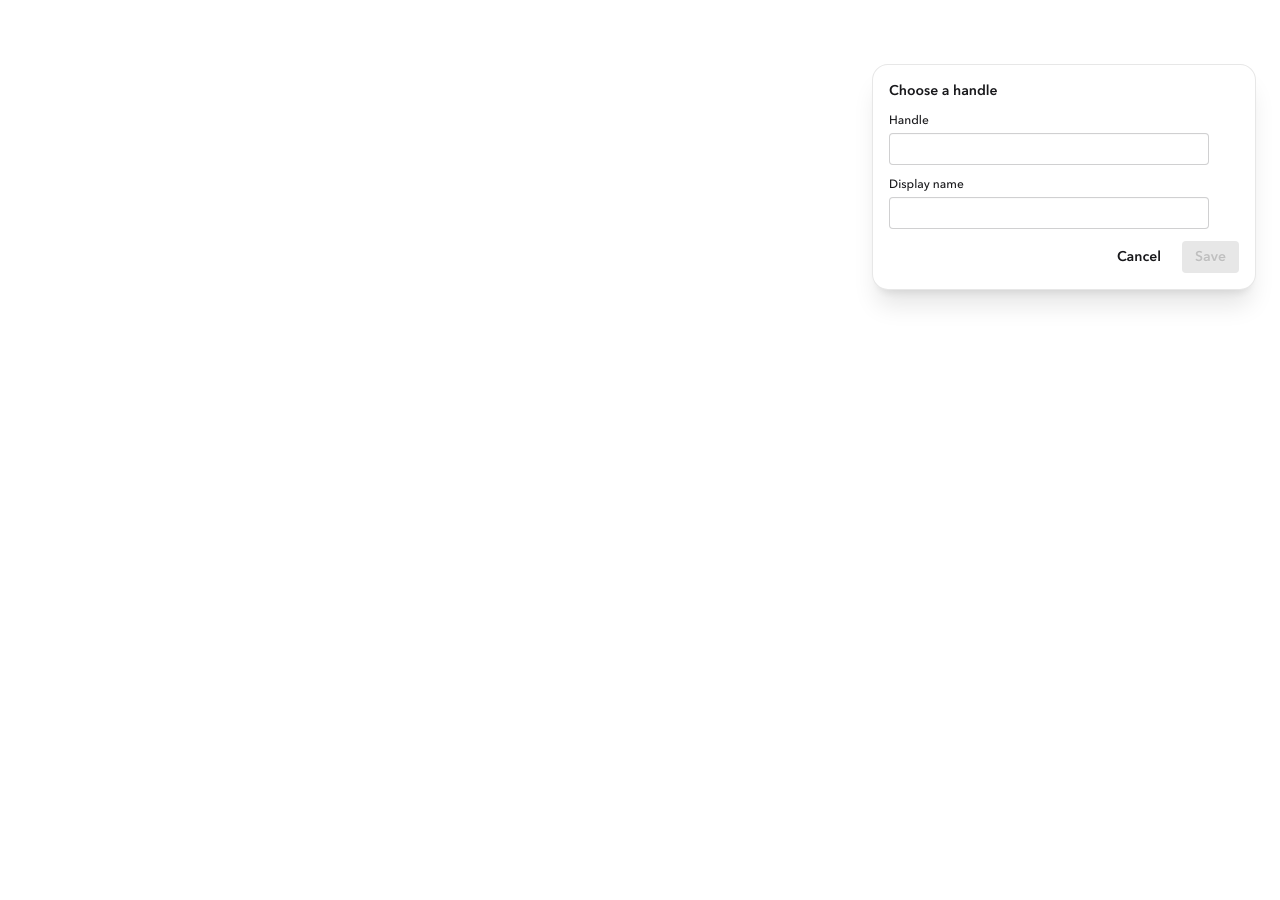
Test: HandleSheet › maps handle_change_too_soon to its copy
Type "reader_1" into the field labelled "Handle".
click(1049, 149); type("reader_1")  # box [889,133,1209,165]
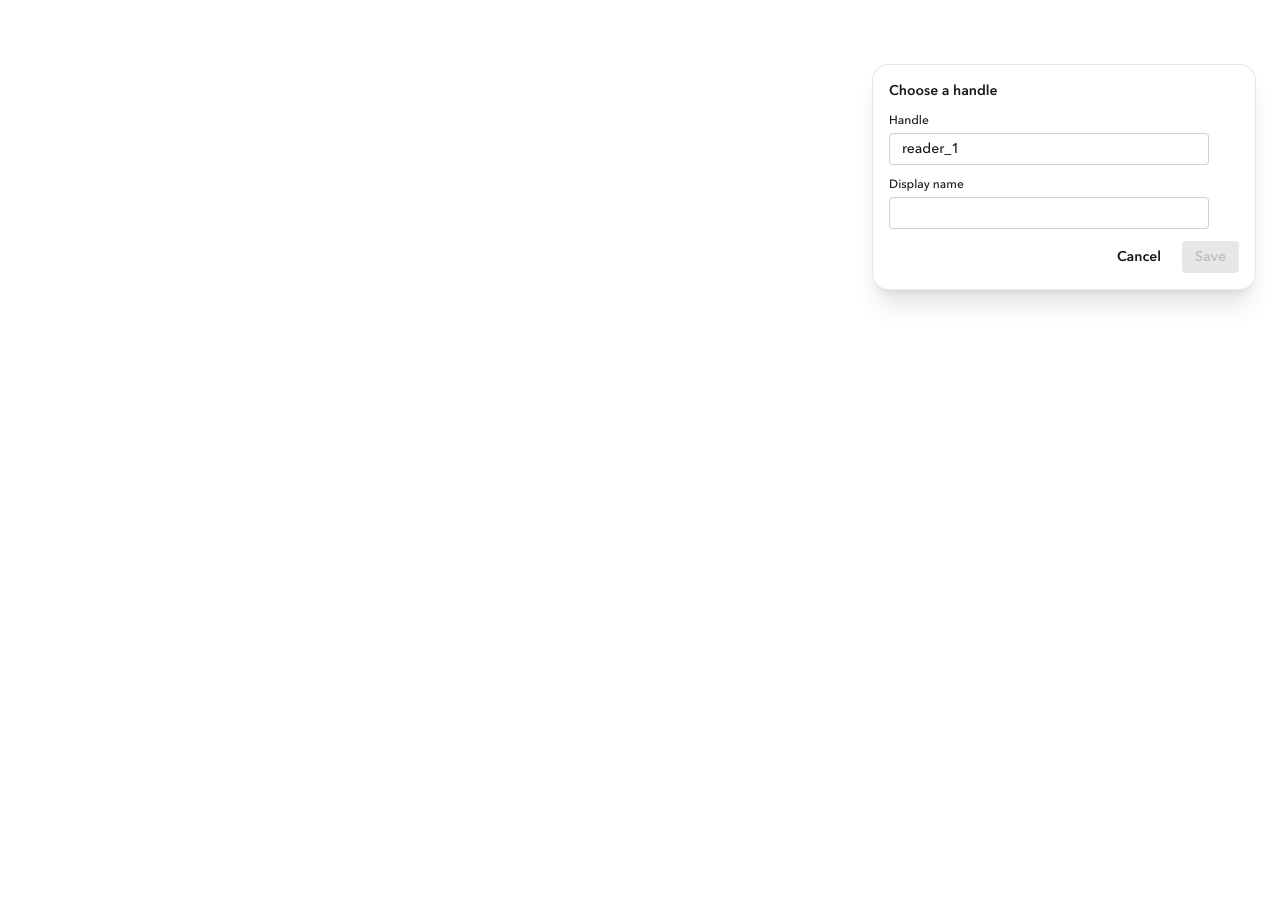
Type "Reader" into the field labelled "Display name".
click(1049, 213); type("Reader")  # box [889,197,1209,229]
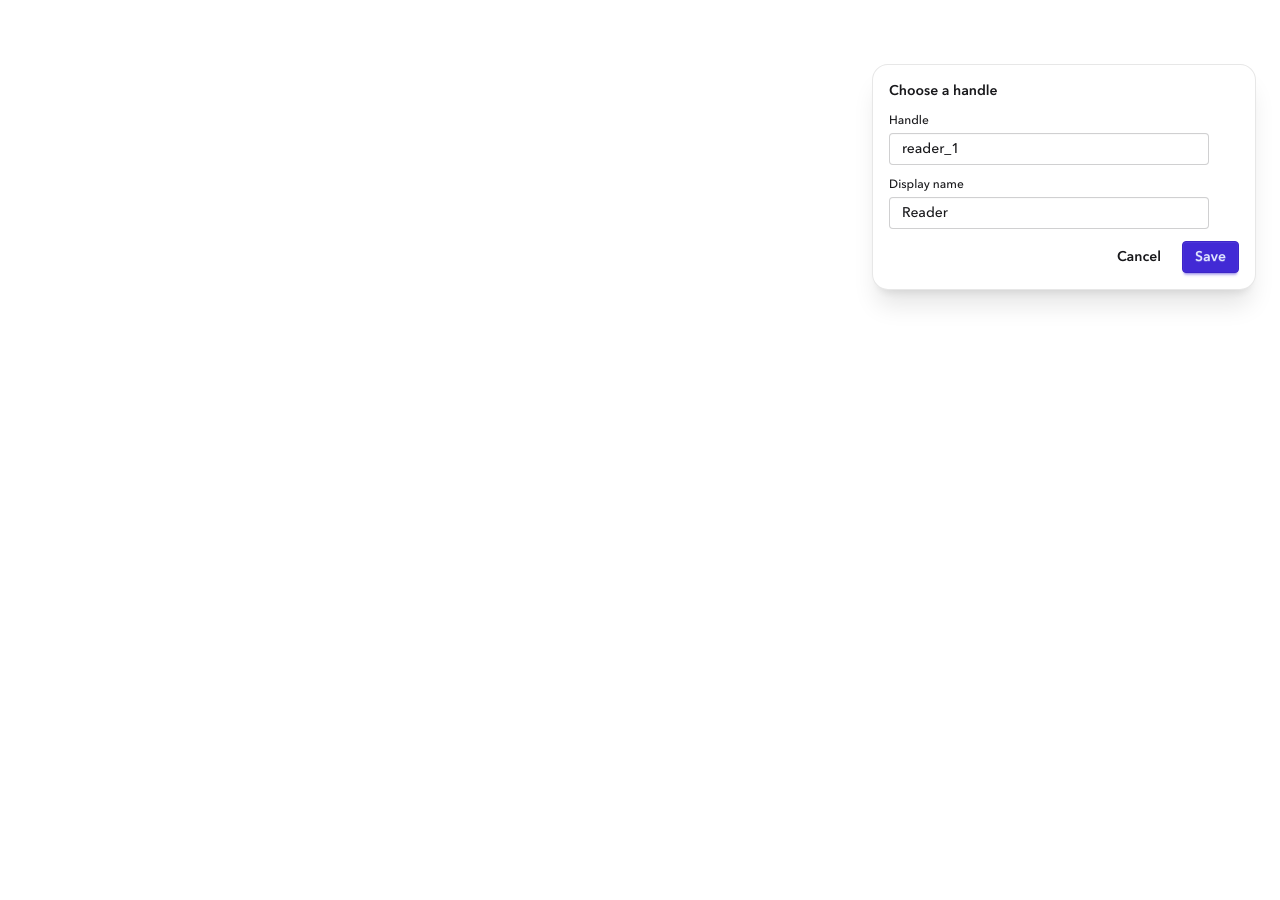
Click the button "Save".
click(1210, 257)  # box [1182,241,1239,273]
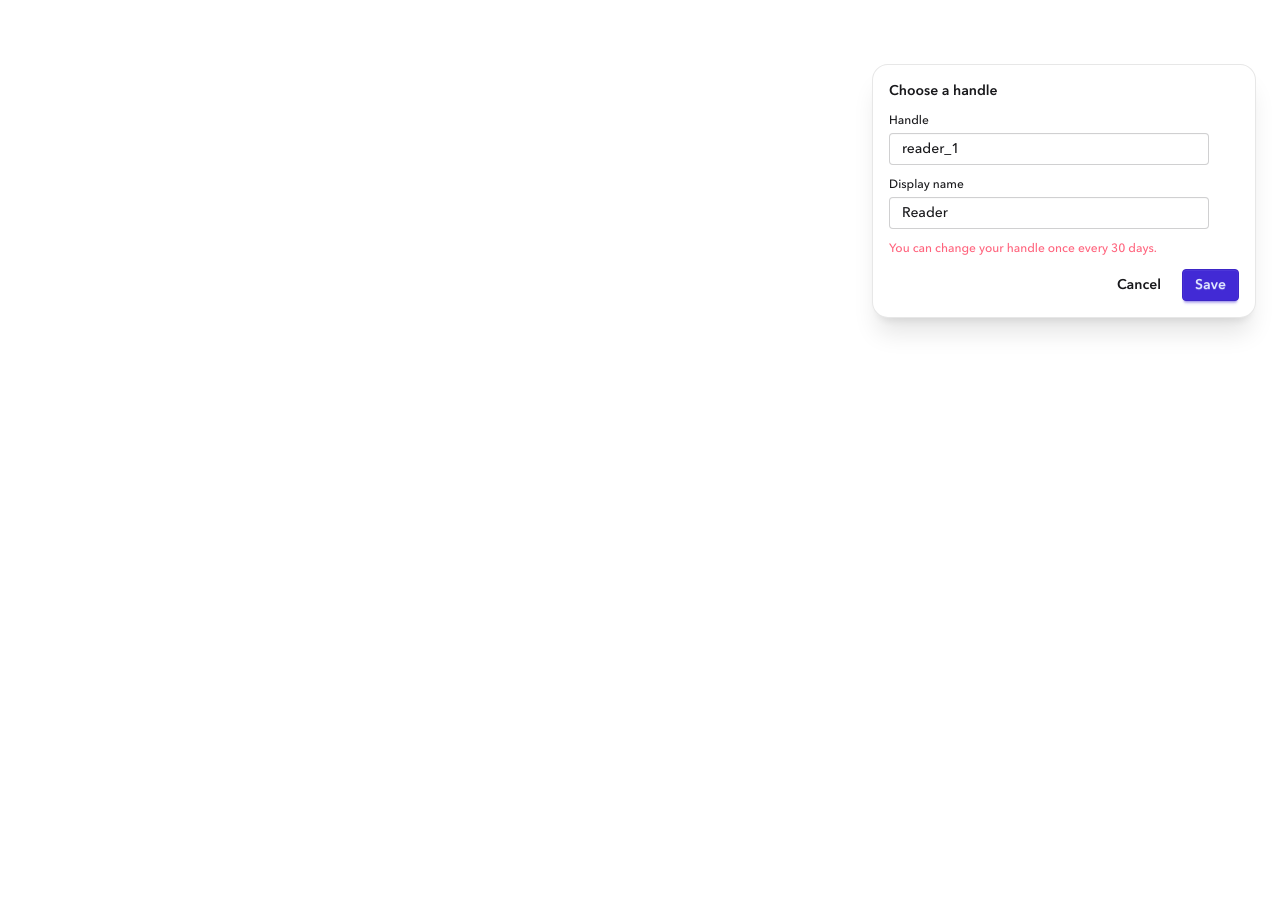
Check: the text "You can change your handle once every 30 days." is shown, box [889,243,1157,255]
